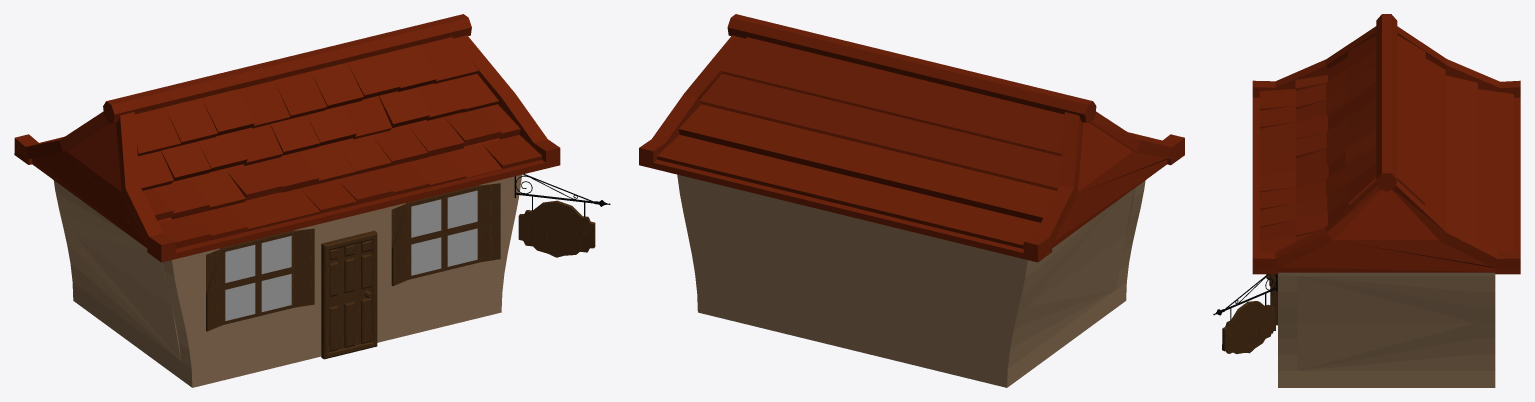
The model's file is longHouse.fbx.
The picture shows the model from 3 angles, left to right: view 1: azimuth 30°, elevation 25°; view 2: azimuth 150°, elevation 25°; view 3: azimuth 270°, elevation 25°; orthographic projection. The views are drawn at different scales.
Visible parts, largest first — view 1: polySurface27; view 2: polySurface27; view 3: polySurface27.
Part boxes in pixels (x1,y1,x2,y2): polySurface27: (14,14,610,387); polySurface27: (639,14,1184,387); polySurface27: (1213,14,1520,387).
Bounding box in the file's own units: 11.75 × 6.49 × 8.01.
6 materials, 1 textured.
